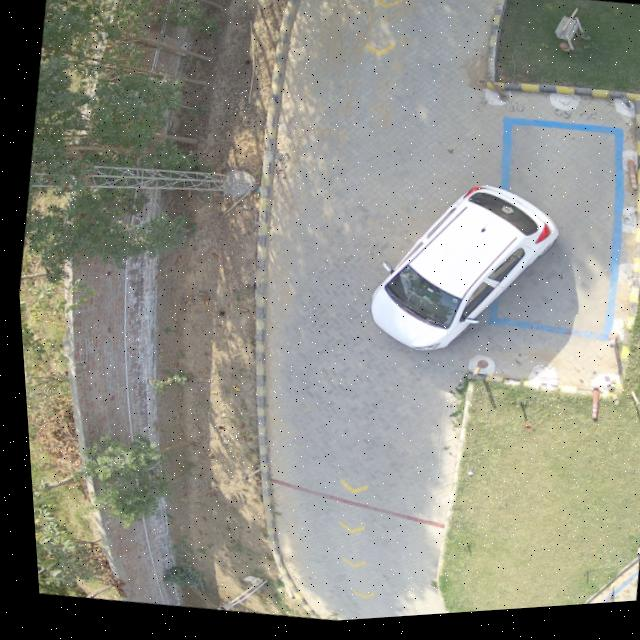car: (367, 190, 557, 354)
